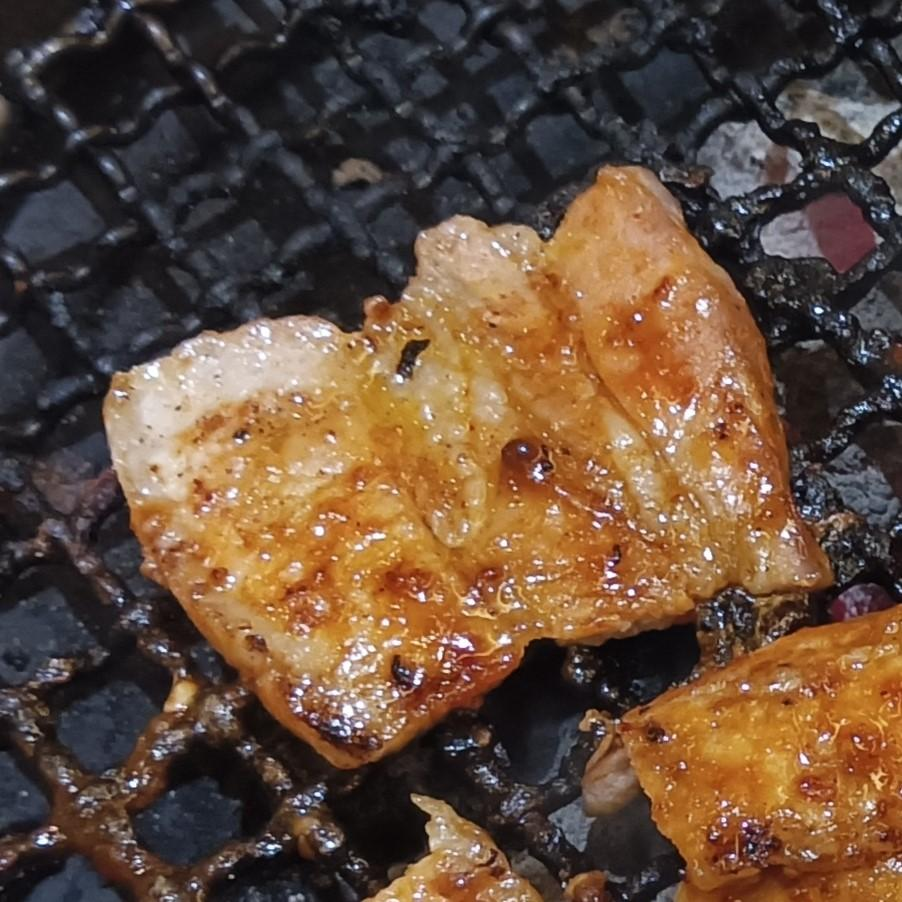Well-Cooked: (101, 166, 829, 773), (617, 605, 901, 901), (362, 811, 555, 901)
